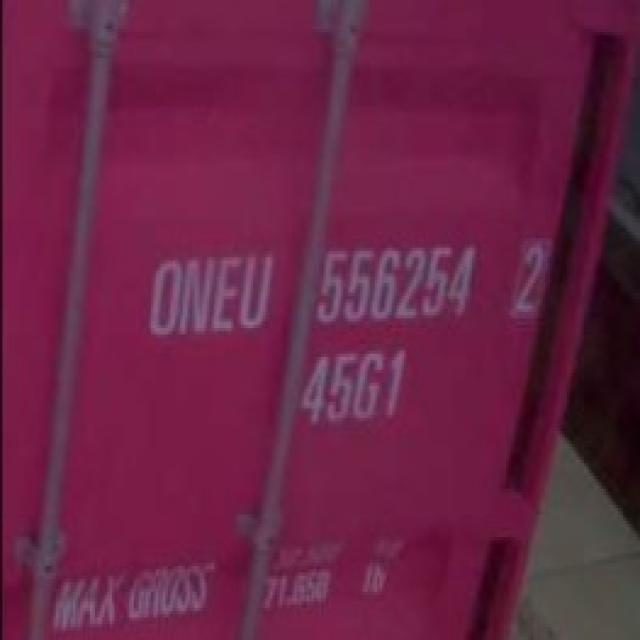dv: (511, 233, 552, 322)
owner: (140, 248, 276, 342)
serial: (310, 243, 482, 325)
size: (290, 344, 412, 424)
